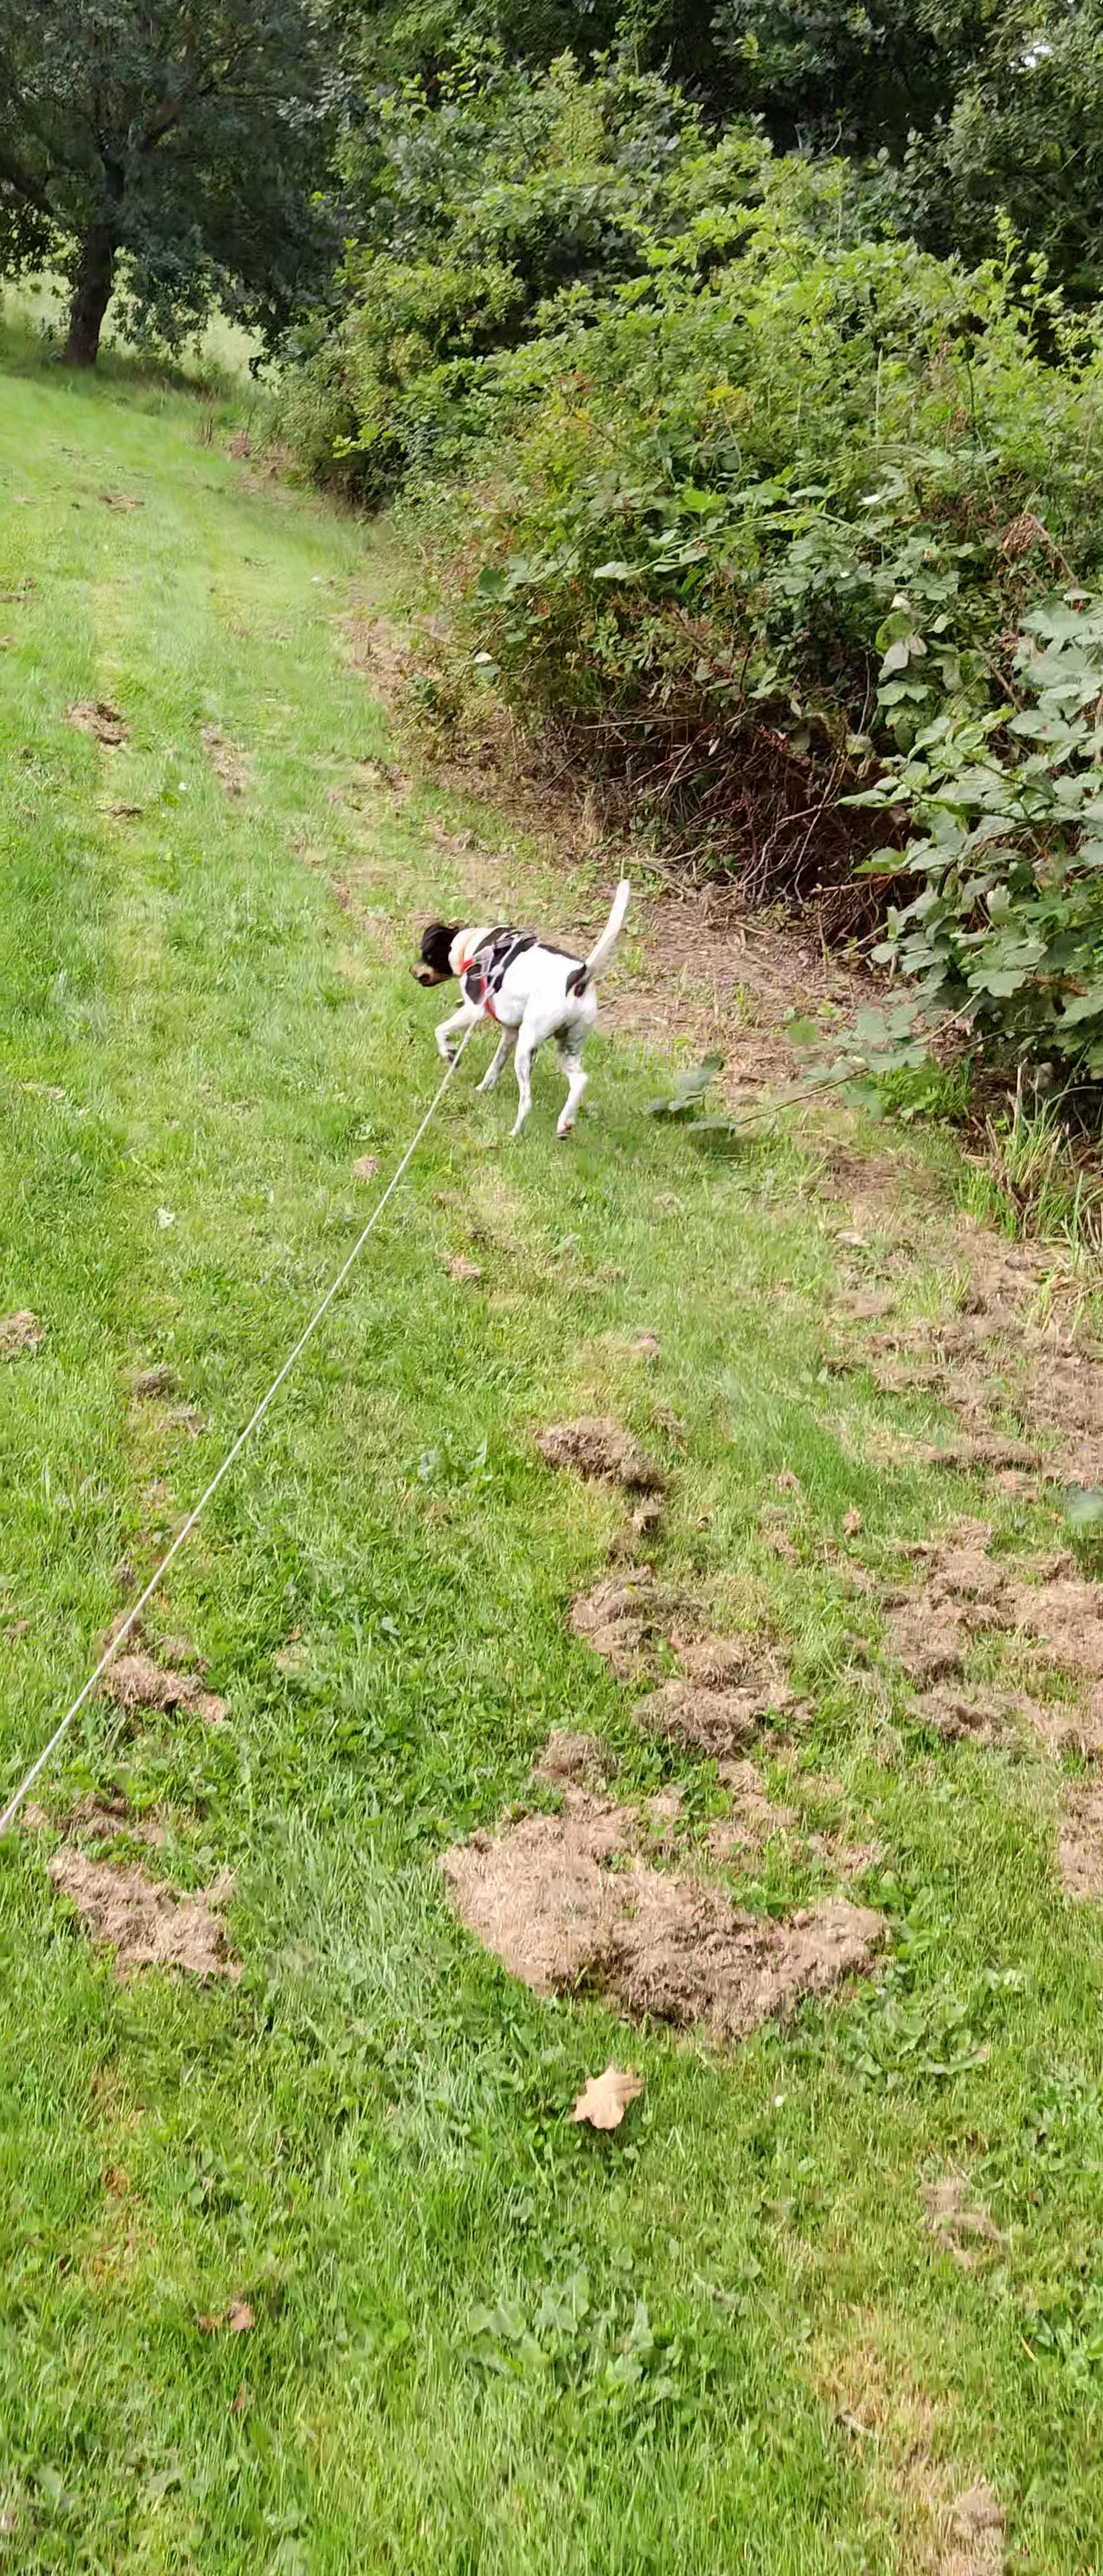Dog: (404, 869, 636, 1143)
